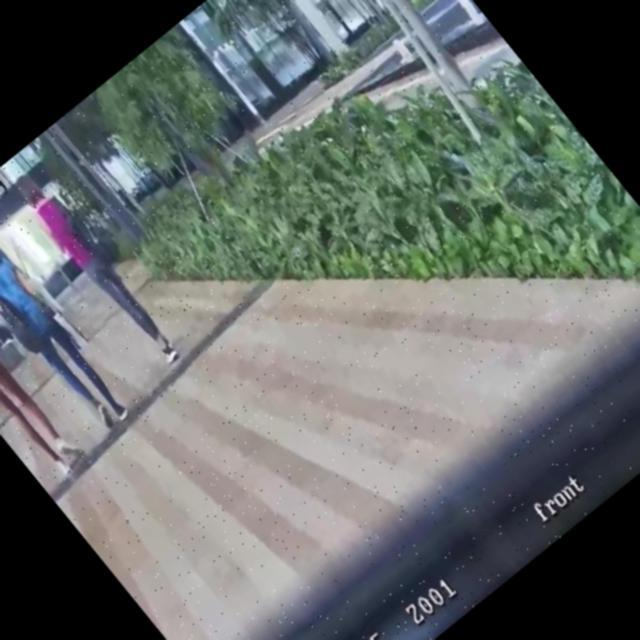person: (8, 166, 187, 374), (0, 209, 143, 440), (0, 256, 88, 484)
